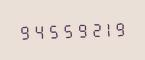five: (45, 20, 58, 40), (59, 20, 72, 39)
four: (31, 21, 44, 40)
nine: (17, 21, 30, 41), (73, 19, 86, 39), (115, 18, 128, 38)
one: (101, 18, 114, 38)
two: (87, 19, 100, 39)
